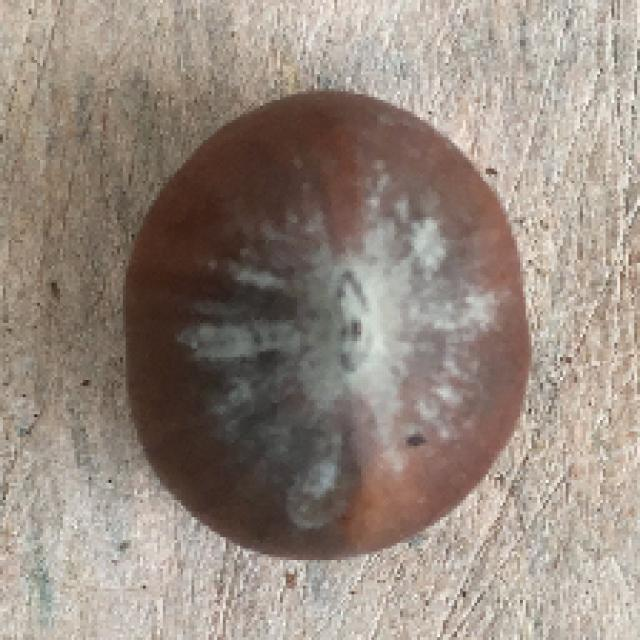damagedHazelnut: (111, 88, 534, 559)
